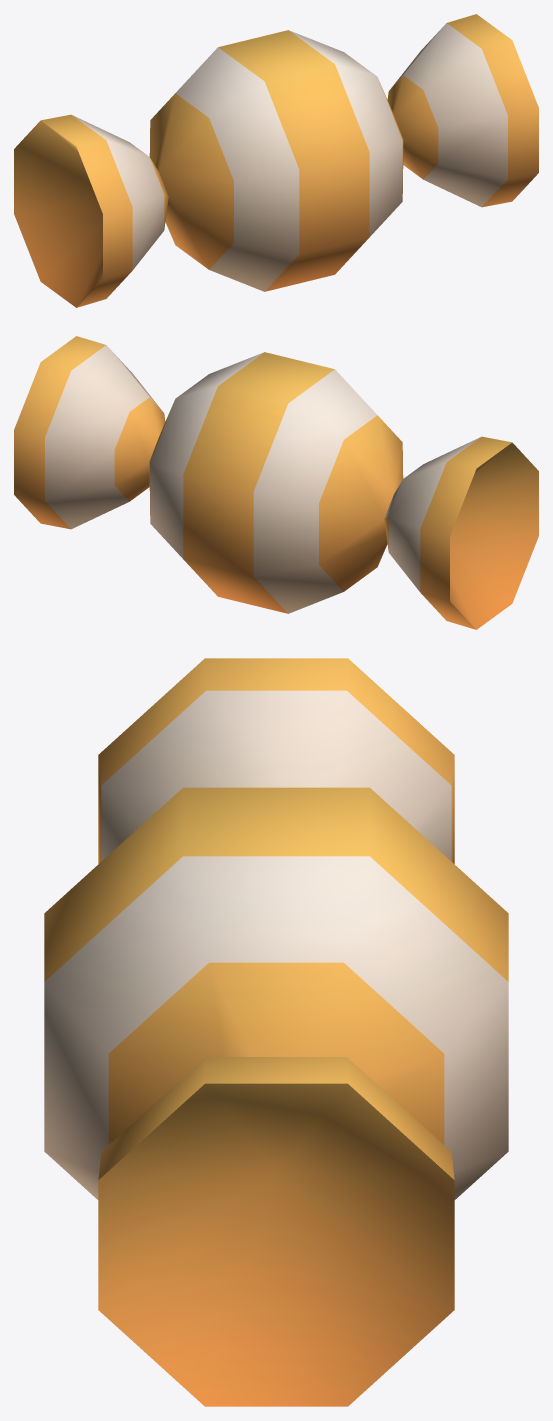
File: candy_orange_a.glb
The picture shows the model from 3 angles, top to bottom: view 1: azimuth 30°, elevation 25°; view 2: azimuth 150°, elevation 25°; view 3: azimuth 270°, elevation 25°; orthographic projection. The views are drawn at different scales.
Parts seen in each view (by area): view 1: candy_orange_A; view 2: candy_orange_A; view 3: candy_orange_A.
Boxes of the visible parts, x1,y1,x2,y2 form: candy_orange_A: (14, 14, 538, 307); candy_orange_A: (14, 336, 538, 629); candy_orange_A: (44, 658, 508, 1406).
Size of the model in its own units: 0.65 by 0.3 by 0.3.
Materials: 1 (1 with a texture image).
